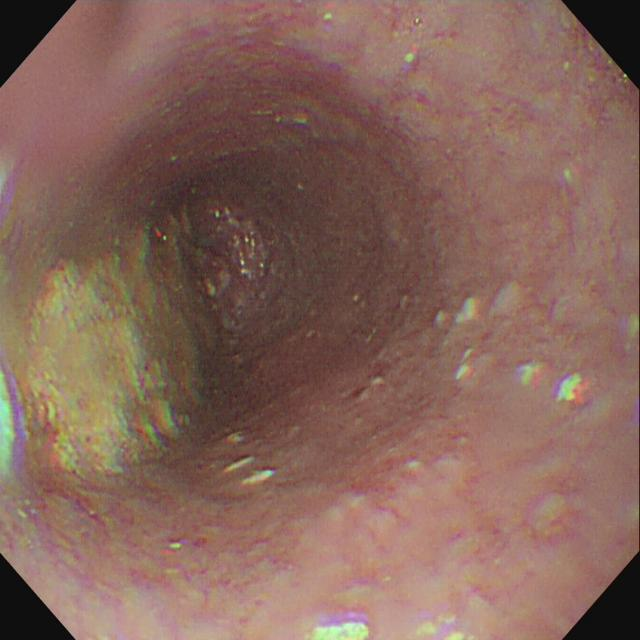B: (34, 226, 211, 481)
J: (225, 432, 273, 487)
